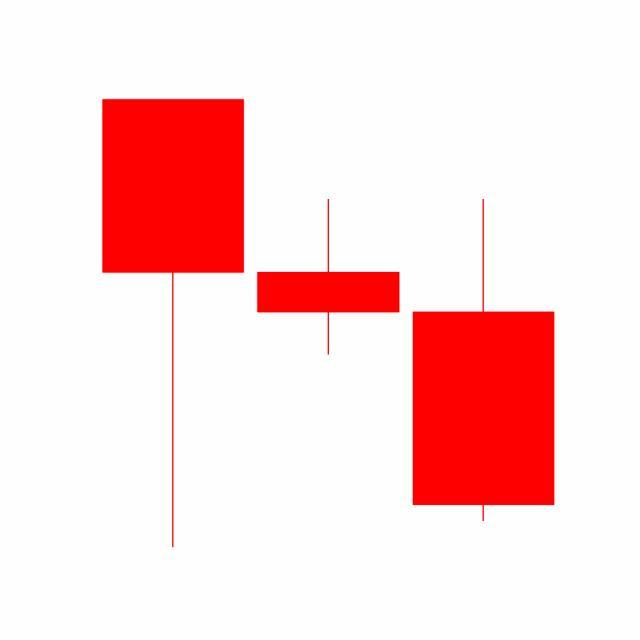Spinning Top: (250, 197, 407, 357)
